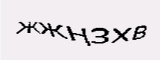З: (47, 19, 57, 38)
Л: (108, 26, 126, 49)
П: (30, 21, 44, 42)
Щ: (80, 27, 106, 49), (56, 22, 81, 43)
